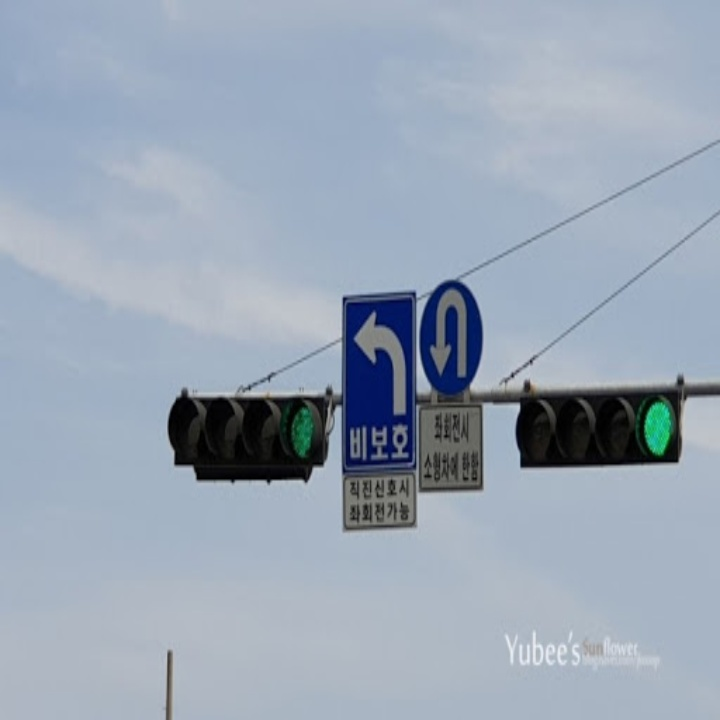left: (349, 305, 413, 419)
